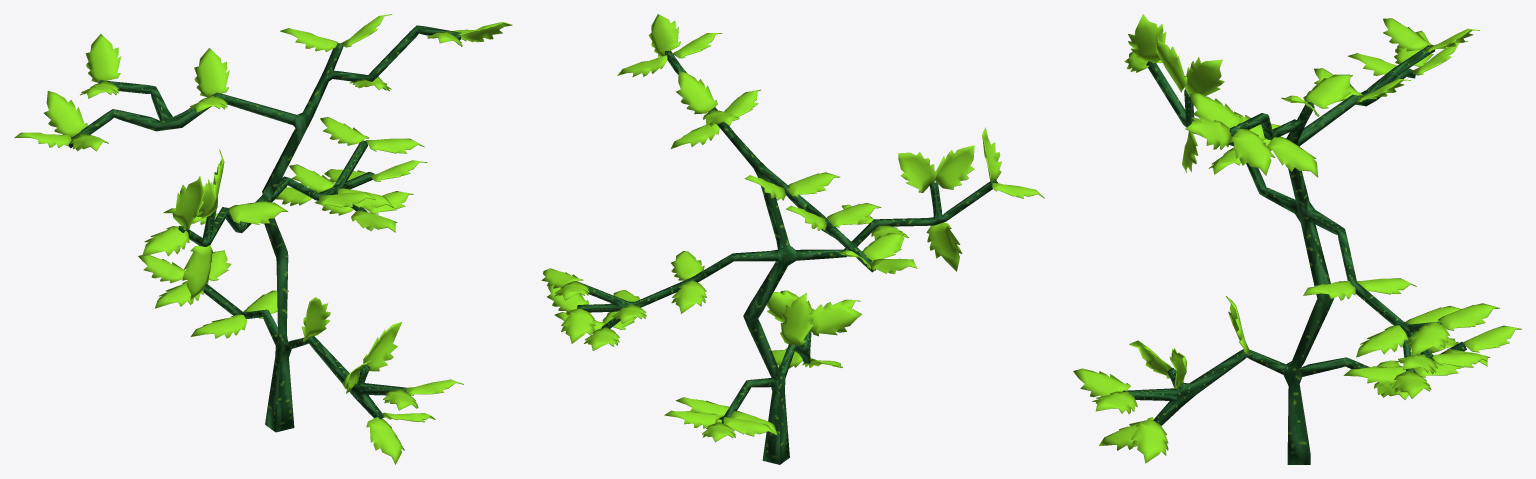
Rendered from Tomatera Mediana.fbx.
The picture shows the model from 3 angles, left to right: view 1: azimuth 30°, elevation 25°; view 2: azimuth 150°, elevation 25°; view 3: azimuth 270°, elevation 25°; orthographic projection. The views are drawn at different scales.
Visible parts, largest first — view 1: Tomatera Mediana; view 2: Tomatera Mediana; view 3: Tomatera Mediana.
Boxes of the visible parts, <box> form: Tomatera Mediana: <box>14,14,512,464</box>; Tomatera Mediana: <box>541,14,1044,464</box>; Tomatera Mediana: <box>1073,14,1521,464</box>.
Size of the model in its own units: 988 by 870 by 916.
Materials: 2 (1 with a texture image).
